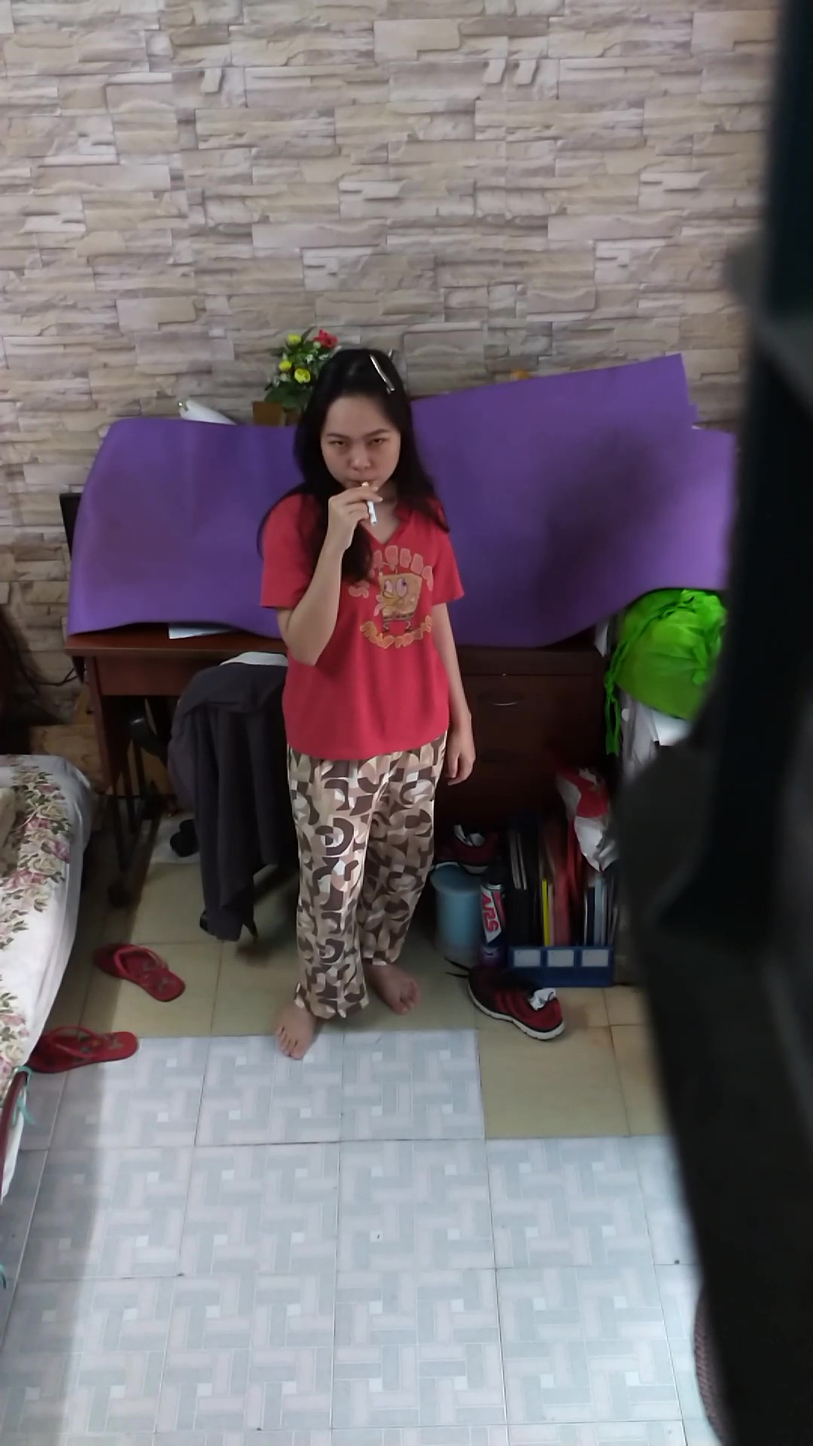cigarette: (365, 499, 380, 530)
person: (260, 340, 480, 1080)
